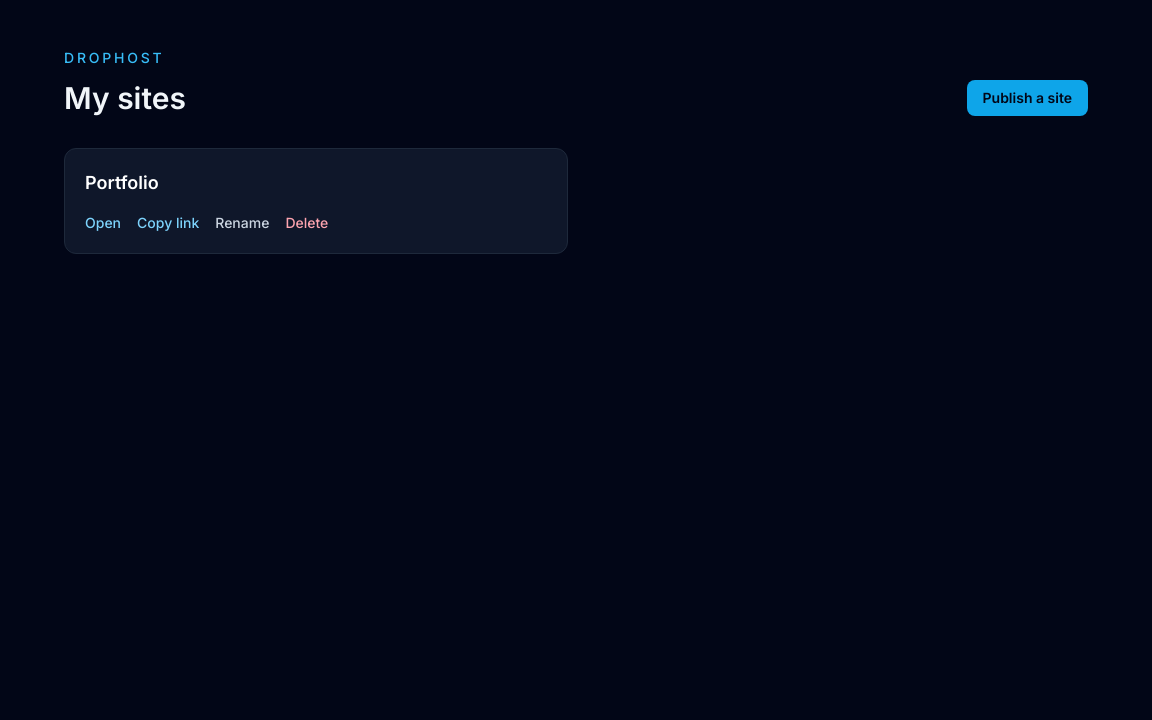
MySitesPage › requires confirmation before deleting a site and removes it after success
Expected: the heading "Portfolio" is shown, [85,172,159,193]
What coordinates should you click on to do the following:
click the button "Delete"
I would click on:
 (307, 223)
Its box is [285,213,328,233].
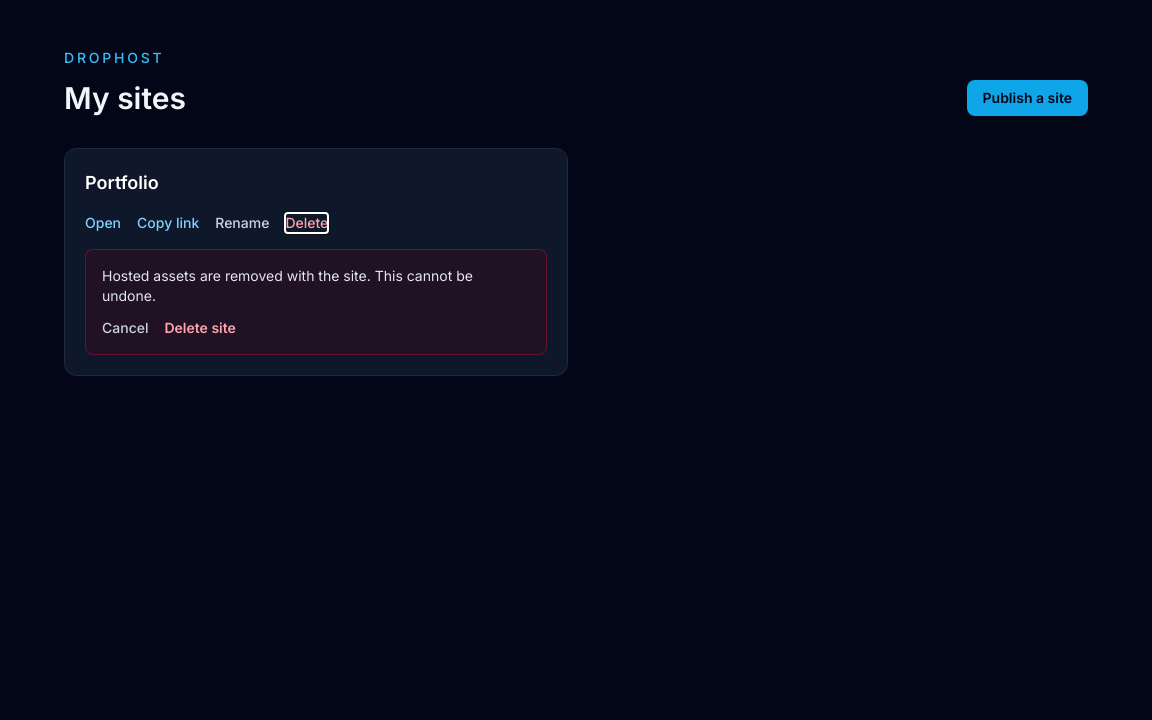
Expected: the heading "Portfolio" is shown, [85,172,159,193]
Now the dialog shows "Hosted assets are removed with the site", box [102,267,473,304]
What coordinates should you click on to do the following:
click the button "Delete site"
I would click on:
 (200, 328)
Its box is [164,318,236,338].
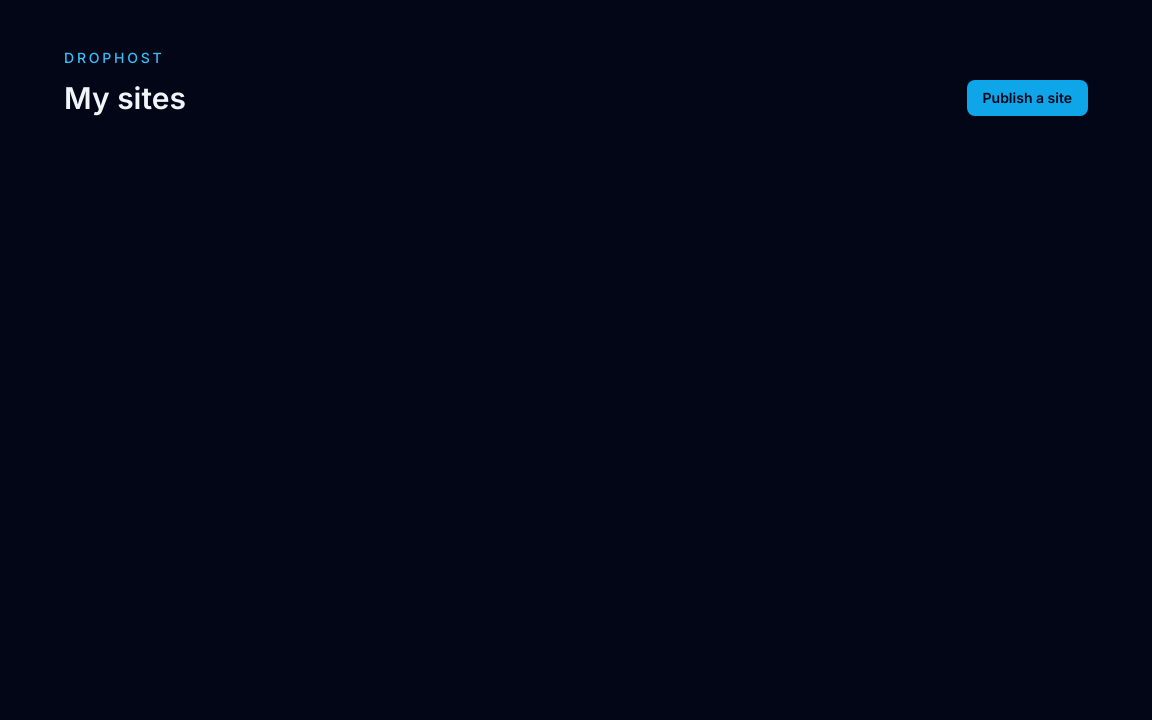
Now the heading "Portfolio" is gone
